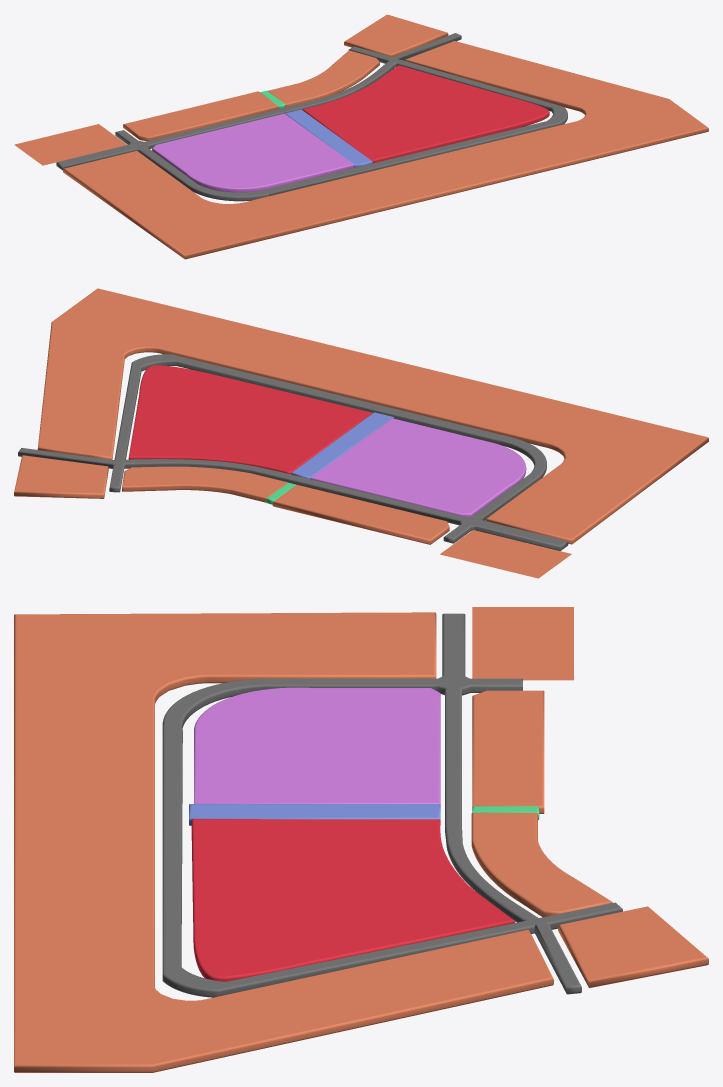
Rendered from Map_ground.fbx.
3 renders of one model, top to bottom at view 1: azimuth 30°, elevation 25°; view 2: azimuth 150°, elevation 25°; view 3: azimuth 270°, elevation 25°, orthographic. The views are drawn at different scales.
Visible parts, largest first — view 1: Curve.008, Curve.002, Curve.001, Curve.006, Curve.012, Curve, Curve.010, Curve.009, Curve.011; view 2: Curve.008, Curve.002, Curve.001, Curve.006, Curve.012, Curve, Curve.010, Curve.009, Curve.011; view 3: Curve.008, Curve.002, Curve.001, Curve.006, Curve.012, Curve.010, Curve, Curve.009, Curve.011.
Part boxes in pixels (box(x1,y1,x2,y2)): Curve.008: box(63, 41, 708, 259); Curve.002: box(302, 65, 549, 163); Curve.001: box(152, 113, 353, 192); Curve.006: box(56, 33, 567, 201); Curve.012: box(123, 91, 278, 140); Curve: box(268, 50, 379, 107); Curve.010: box(344, 14, 448, 57); Curve.009: box(14, 124, 126, 165); Curve.011: box(285, 109, 372, 167); Curve.008: box(37, 288, 708, 544); Curve.002: box(128, 365, 372, 474); Curve.001: box(310, 418, 526, 516); Curve.006: box(18, 354, 568, 550); Curve.012: box(272, 485, 449, 544); Curve: box(122, 466, 287, 502); Curve.010: box(14, 455, 108, 498); Curve.009: box(440, 530, 571, 578); Curve.011: box(291, 412, 394, 478); Curve.008: box(14, 612, 553, 1072); Curve.002: box(191, 819, 515, 981); Curve.001: box(194, 687, 440, 804); Curve.006: box(162, 613, 622, 997); Curve.012: box(472, 690, 544, 813); Curve.010: box(558, 906, 708, 987); Curve: box(471, 812, 612, 917); Curve.009: box(472, 607, 573, 680); Curve.011: box(189, 804, 440, 825).
Size of the model in its own units: 47.1 by 0.4 by 29.92.
